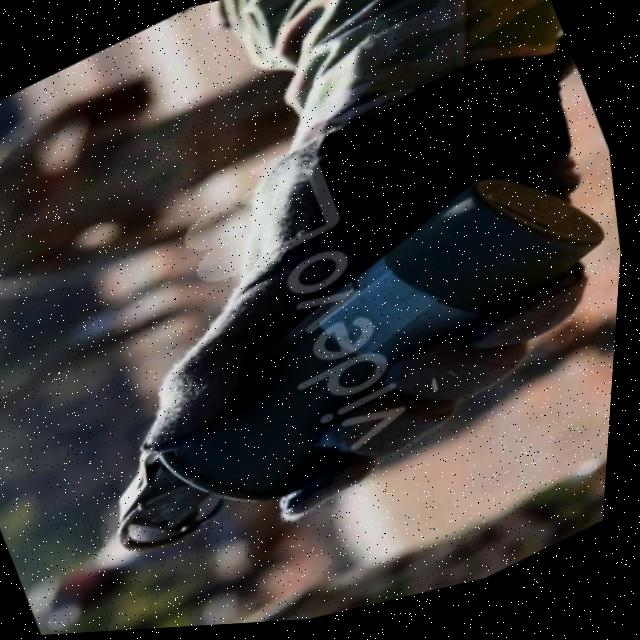grenade: (28, 132, 632, 590)
